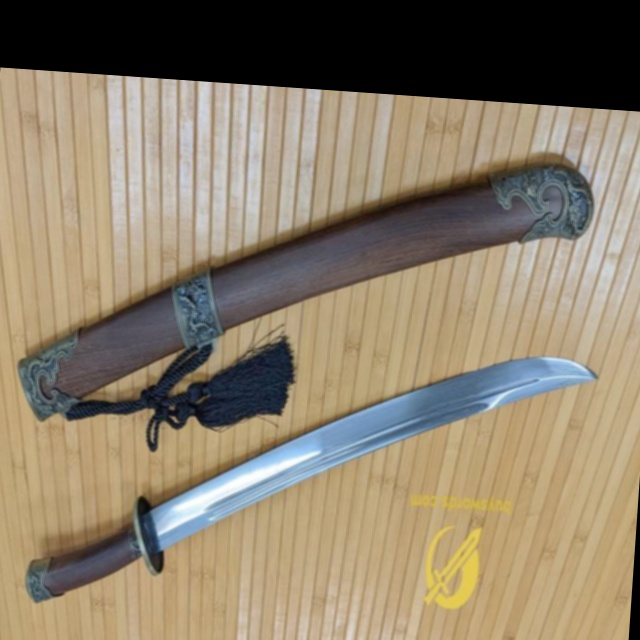Sharp-Object: (4, 323, 617, 640)
